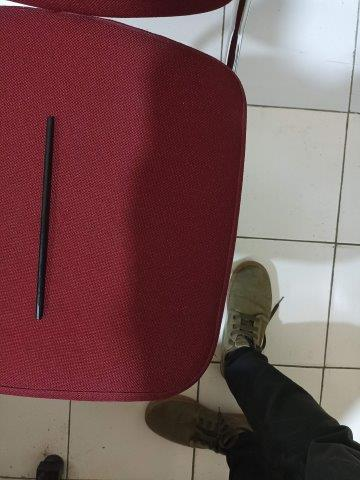sedotan: (36, 118, 54, 318)
